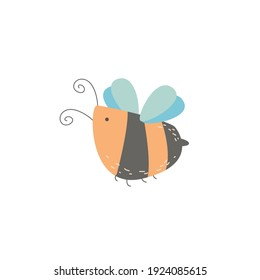bird: (59, 73, 202, 189)
